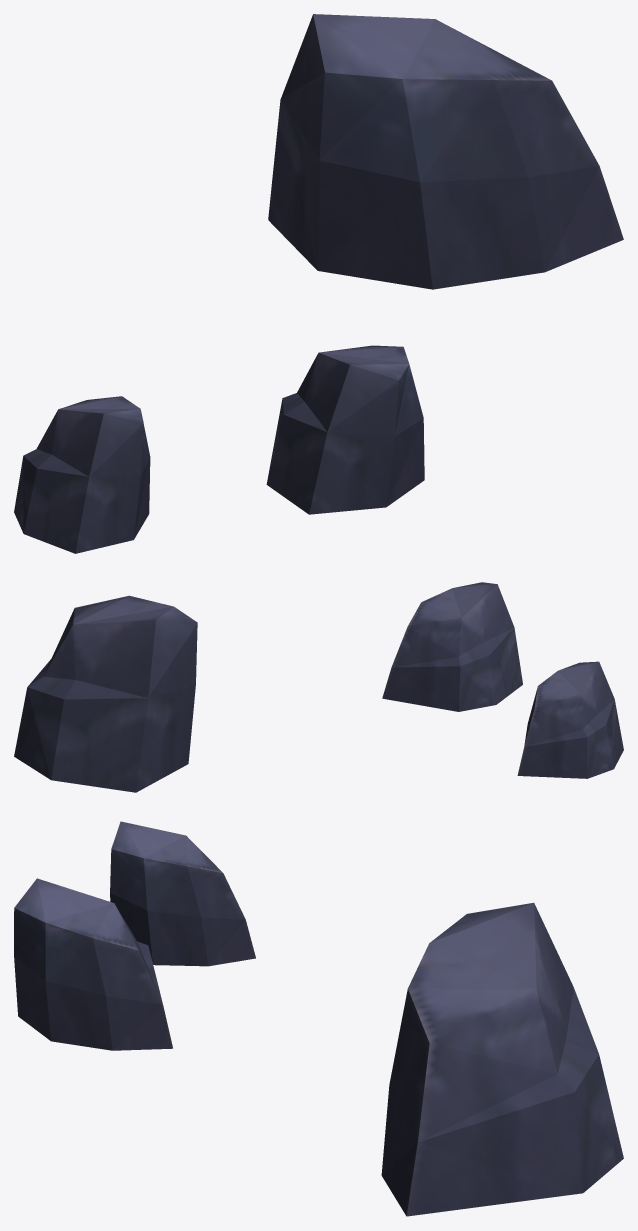
The model's file is Area08_17.fbx.
3 views of the same model, one above another, from view 1: azimuth 30°, elevation 25°; view 2: azimuth 150°, elevation 25°; view 3: azimuth 270°, elevation 25° (orthographic). The views are drawn at different scales.
Visible parts, largest first — view 1: Area08_17; view 2: Area08_17; view 3: Area08_17.
Boxes of the visible parts, x1,y1,x2,y2 form: Area08_17: [14, 14, 623, 553]; Area08_17: [14, 582, 623, 792]; Area08_17: [14, 821, 623, 1216].
Size of the model in its own units: 1446 by 479 by 1163.
